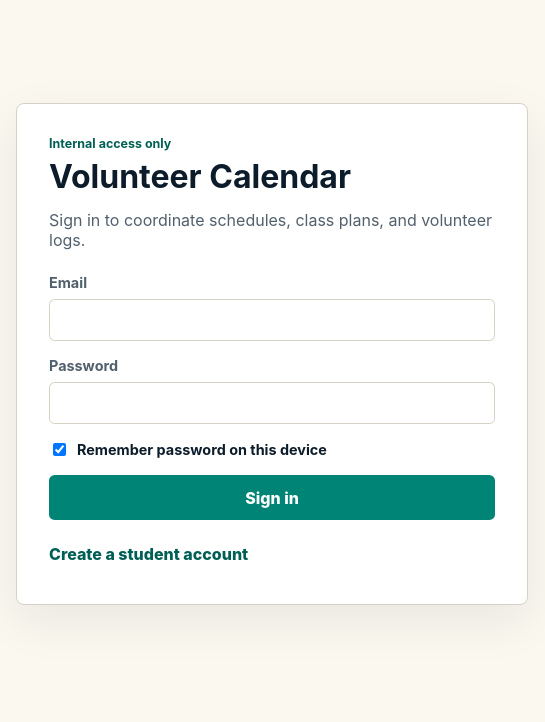
Scenario: App › shows a Firebase setup message when Auth is not configured
The image size is (545, 722).
Step 1. Click the button "Create a student account" → [149, 554], box x1=49 y1=536 x2=248 y2=572
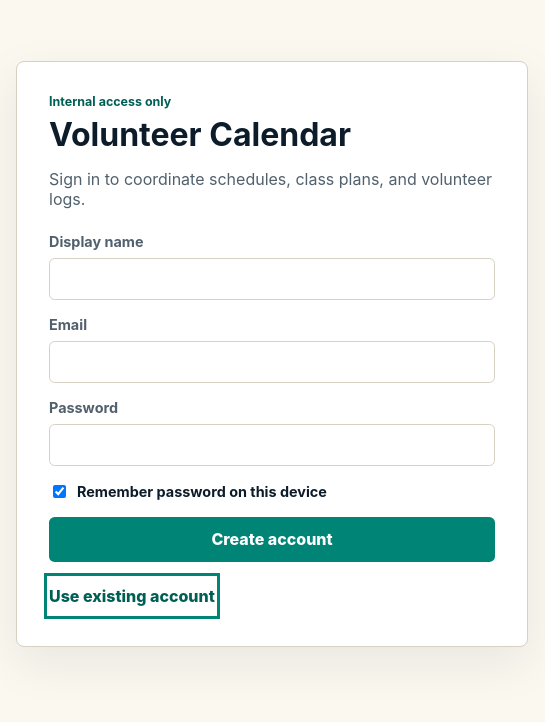
Step 2. Type "Student One" into the field labelled "Display name" → [272, 279], box x1=49 y1=258 x2=495 y2=300
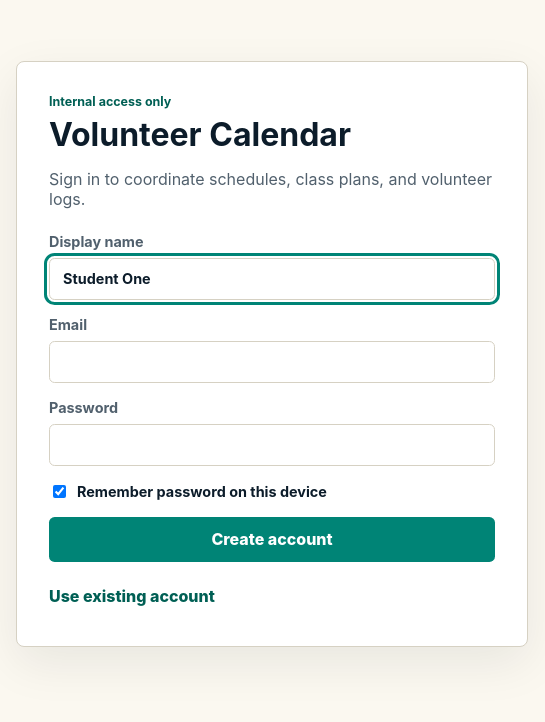
Step 3. Type "student@example.com" into the field labelled "Email" → [272, 362], box x1=49 y1=341 x2=495 y2=383
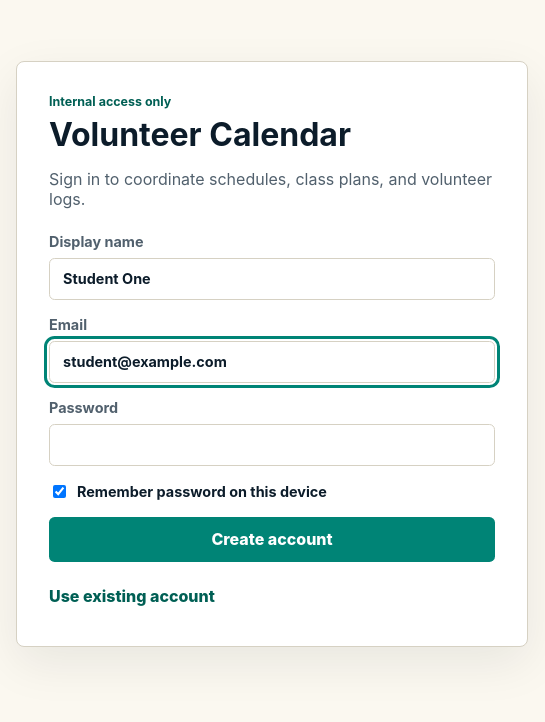
Step 4. Type "password123" into the password field labelled "Password" → [272, 445], box x1=49 y1=424 x2=495 y2=466
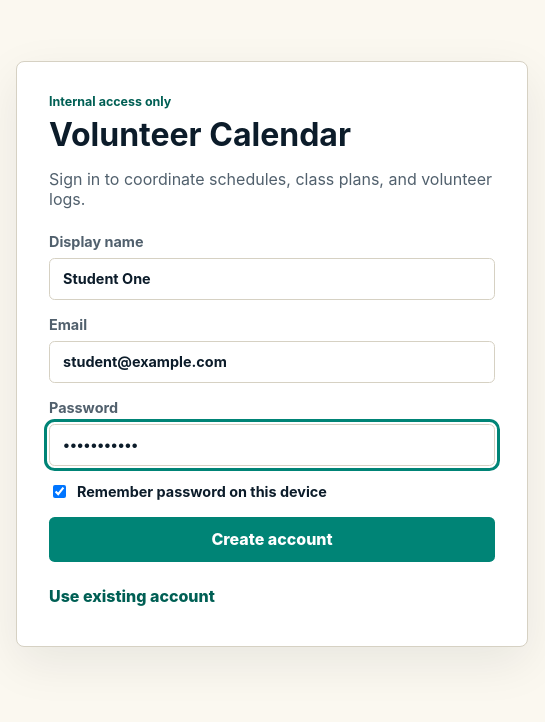
Step 5. Click the button "Create account" → [272, 539], box x1=49 y1=517 x2=495 y2=562
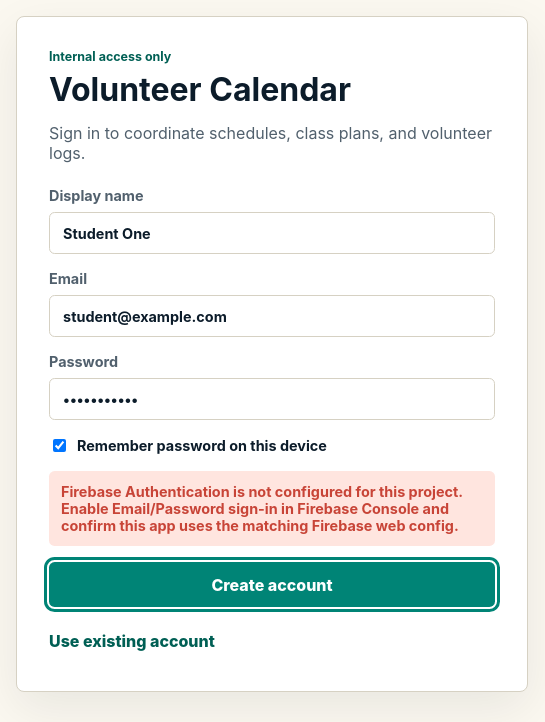
expect the text "Firebase Authentication is not configured for this project. Enable Email/Password sign-in in Firebase Console and confir" is shown: met, box x1=61 y1=483 x2=463 y2=534
